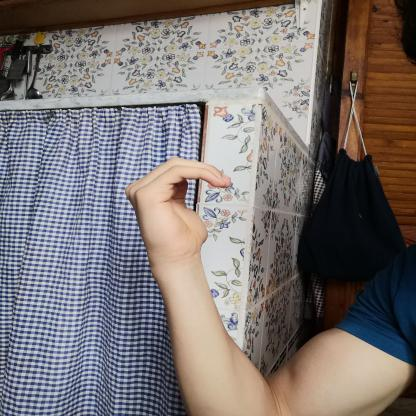HAA: (110, 148, 255, 265)
